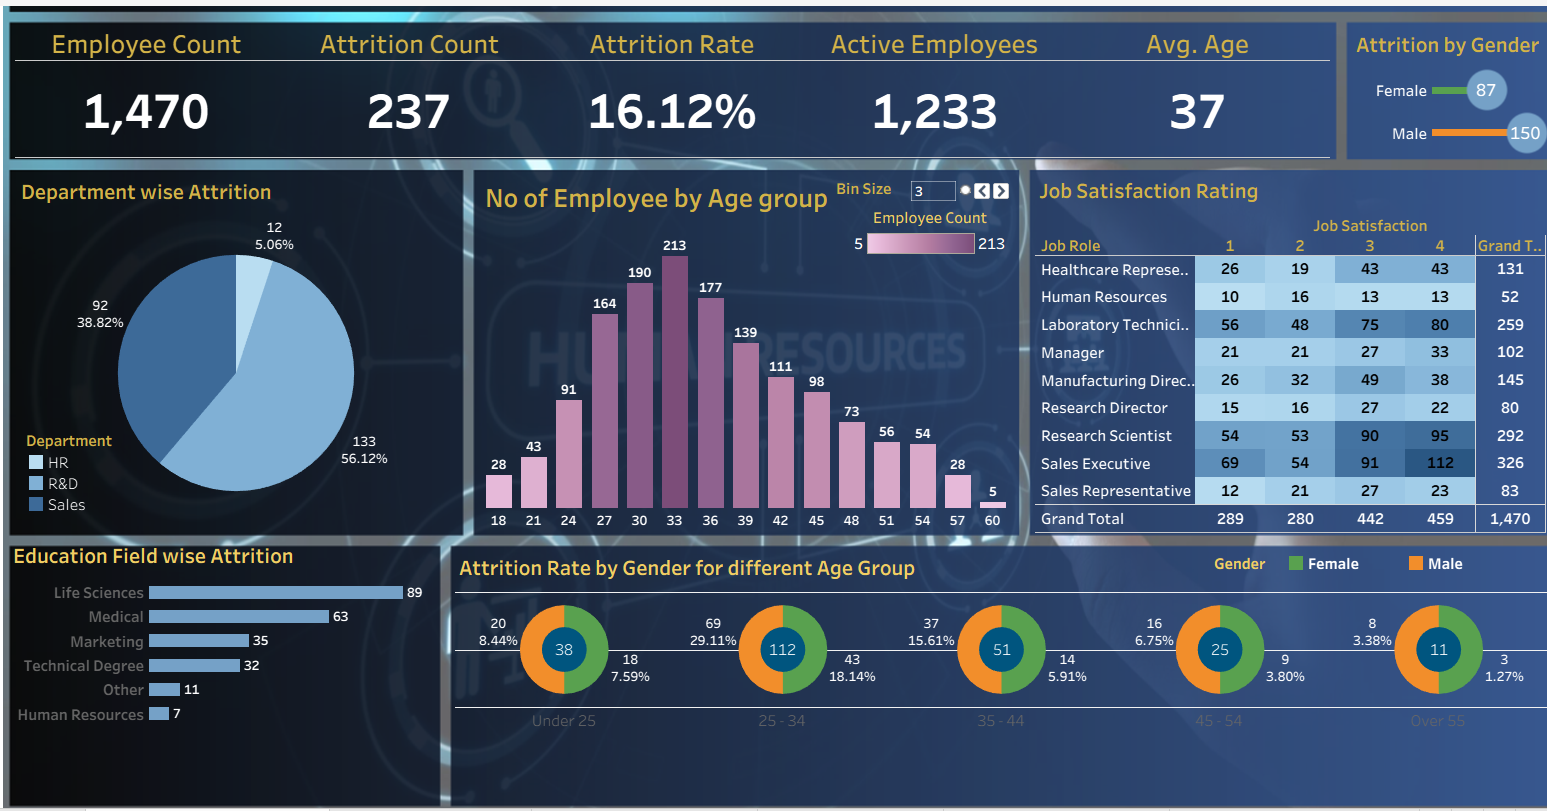

The page's visual inventory and layout, read from the dashboard file:
{"tool":"tableau","page":{"name":"HR ANALYTICS DASHBOARD","canvas":[1580,900],"ordinal":0},"visuals":[{"type":"image","param":"Image/HR background.pptx.png","box":[8,8,1564,884]},{"type":"text","box":[35,21,1129,59]},{"type":"filter","title":"Education Field wise Attrition","param":"[federated.0thaod50juo97c1a5939i0k1fv3z].[none:Education:nk]","box":[885,22,342,55]},{"type":"worksheet","title":"KPI","mark":"Automatic","box":[24,85,1315,147]},{"type":"worksheet","title":"Attrition by Gender","mark":"Automatic","rows":["Gender"],"cols":["Calculation_1790462366002212864","Calculation_1790462366002212864"],"box":[1361,100,200,128]},{"type":"worksheet","title":"Job Satisfaction Rating ","mark":"Square","rows":["Job Role"],"cols":["Job Satisfaction"],"box":[1044,246,511,361]},{"type":"worksheet","title":"Department wise Attrition","mark":"Pie","box":[26,247,438,357]},{"type":"worksheet","title":"No of Employee by Age group","mark":"Automatic","rows":["Employee Count"],"cols":["Age (bin)"],"box":[490,250,530,354]},{"type":"parameter","param":"[Parameters].[Parameter 1]","box":[845,252,176,40]},{"type":"legend","title":"No of Employee by Age group","param":"[federated.0thaod50juo97c1a5939i0k1fv3z].[sum:Employee Count:qk]","box":[859,281,160,51]},{"type":"legend","title":"Department wise Attrition","param":"[federated.0thaod50juo97c1a5939i0k1fv3z].[none:Department:nk]","box":[35,504,140,85]},{"type":"worksheet","title":"Education Field wise Attrition","mark":"Automatic","rows":["Education Field"],"cols":["Calculation_1790462366002212864"],"box":[18,611,431,189]},{"type":"worksheet","title":"Attrition Rate by Gender for different Age Group ","mark":"Pie","rows":["Calculation_1790462366655258628","Calculation_1790462366655258628"],"cols":["CF_age band"],"box":[464,623,1093,183]},{"type":"legend","title":"Attrition Rate by Gender for different Age Group ","param":"[federated.0thaod50juo97c1a5939i0k1fv3z].[none:Gender:nk]","box":[1223,627,331,27]}]}

Visuals, with their boxes on the page's 1580x900 design canvas (x1, y1, x2, y2). These are canvas units, not pixel positions in the 1547x811 screenshot, which may show the page scaled, cropped or inside an application window:
image: (x1=8, y1=8, x2=1572, y2=892)
text: (x1=35, y1=21, x2=1164, y2=80)
"Education Field wise Attrition" filter: (x1=885, y1=22, x2=1227, y2=77)
"KPI" worksheet: (x1=24, y1=85, x2=1339, y2=232)
"Attrition by Gender" worksheet: (x1=1361, y1=100, x2=1561, y2=228)
"Job Satisfaction Rating " worksheet (Square marks): (x1=1044, y1=246, x2=1555, y2=607)
"Department wise Attrition" worksheet (Pie marks): (x1=26, y1=247, x2=464, y2=604)
"No of Employee by Age group" worksheet: (x1=490, y1=250, x2=1020, y2=604)
parameter: (x1=845, y1=252, x2=1021, y2=292)
"No of Employee by Age group" legend: (x1=859, y1=281, x2=1019, y2=332)
"Department wise Attrition" legend: (x1=35, y1=504, x2=175, y2=589)
"Education Field wise Attrition" worksheet: (x1=18, y1=611, x2=449, y2=800)
"Attrition Rate by Gender for different Age Group " worksheet (Pie marks): (x1=464, y1=623, x2=1557, y2=806)
"Attrition Rate by Gender for different Age Group " legend: (x1=1223, y1=627, x2=1554, y2=654)
